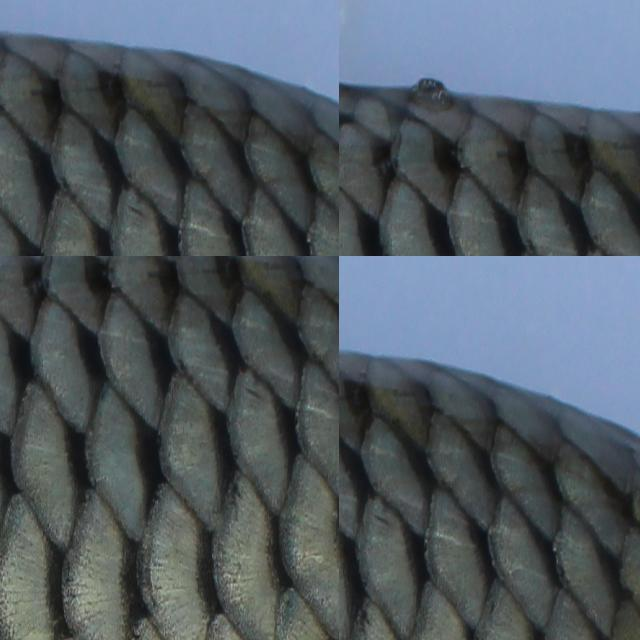fish: (339, 256, 640, 640)
